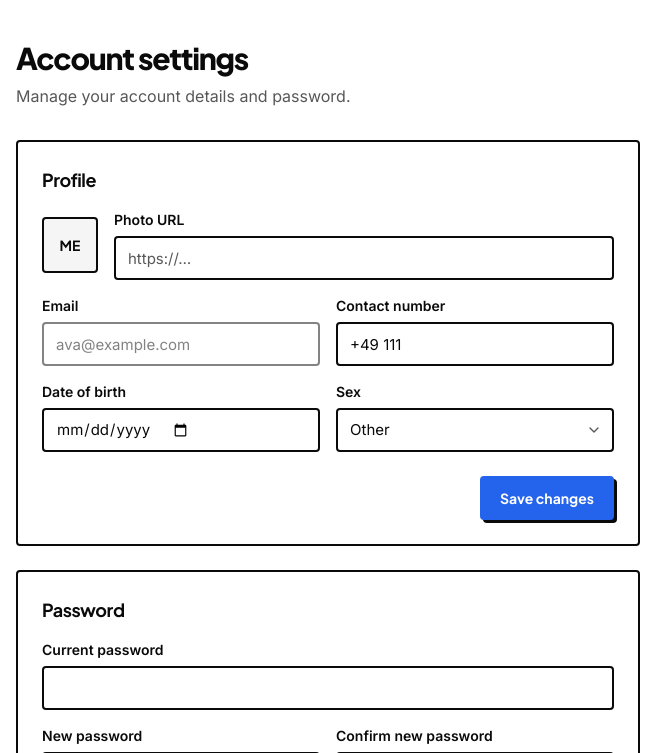
Test case: Settings › shows a local error and makes no request when the new passwords mismatch
Step 1. Type "oldpassword1" into the password field labelled "Current password" → x=328, y=688, box [42, 666, 614, 710]
(page scrolled)
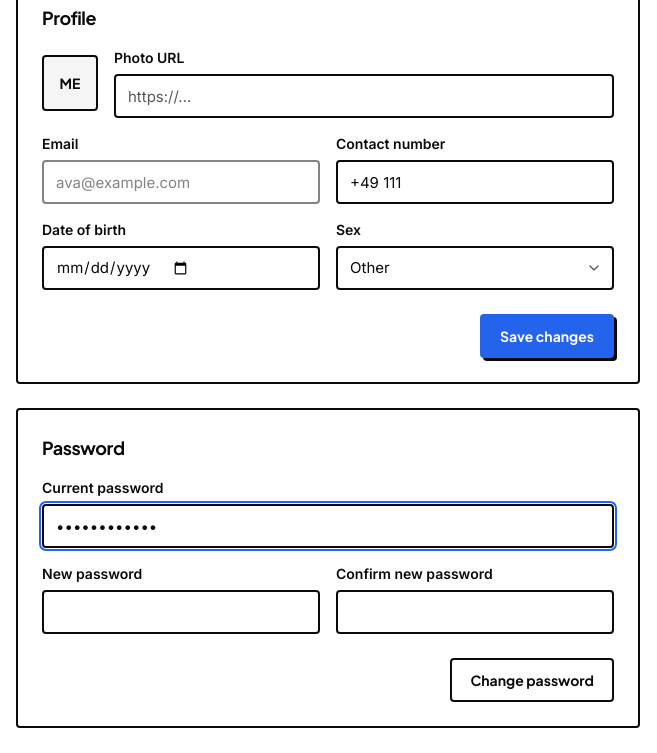
Step 2. Type "newpassword1" into the password field labelled "New password" → x=181, y=612, box [42, 590, 320, 634]
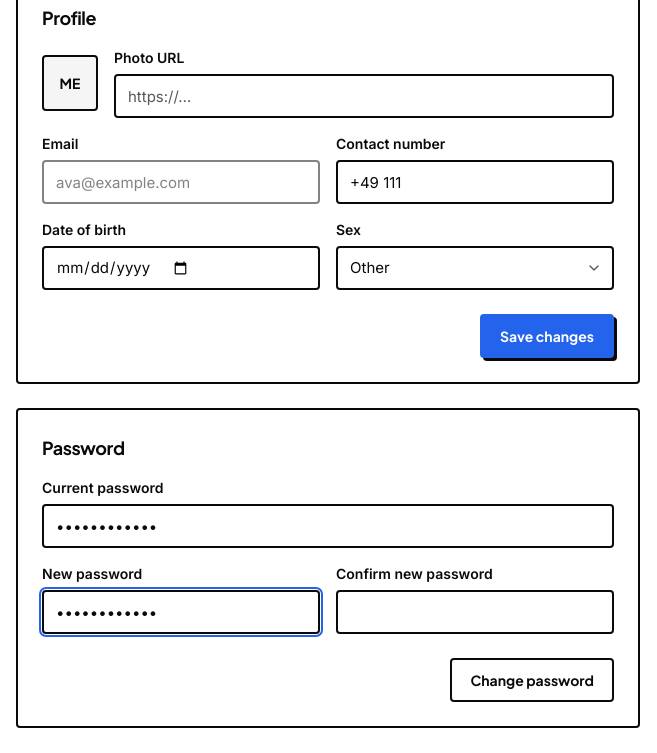
Step 3. Type "doesNotMatch" into the password field labelled "Confirm new password" → x=475, y=612, box [336, 590, 614, 634]
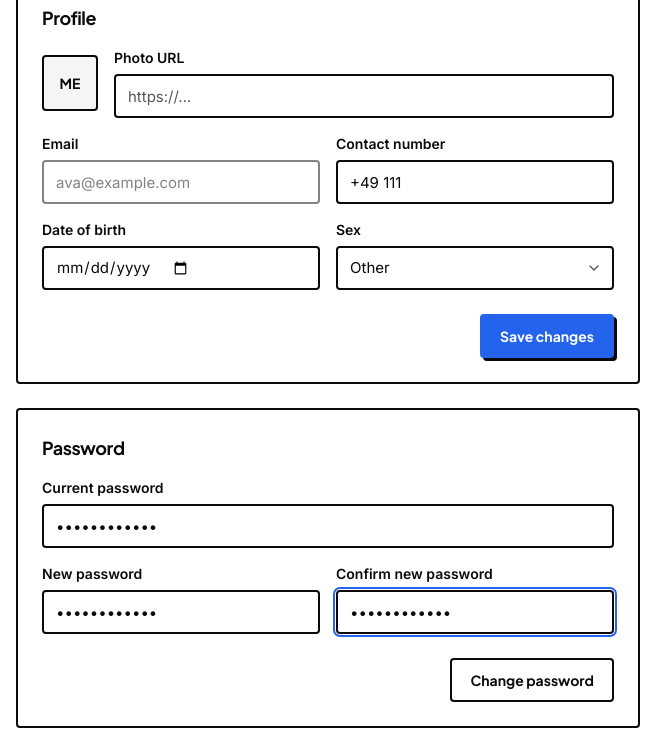
Step 4. Click the button "Change password" → x=532, y=680, box [450, 658, 614, 702]
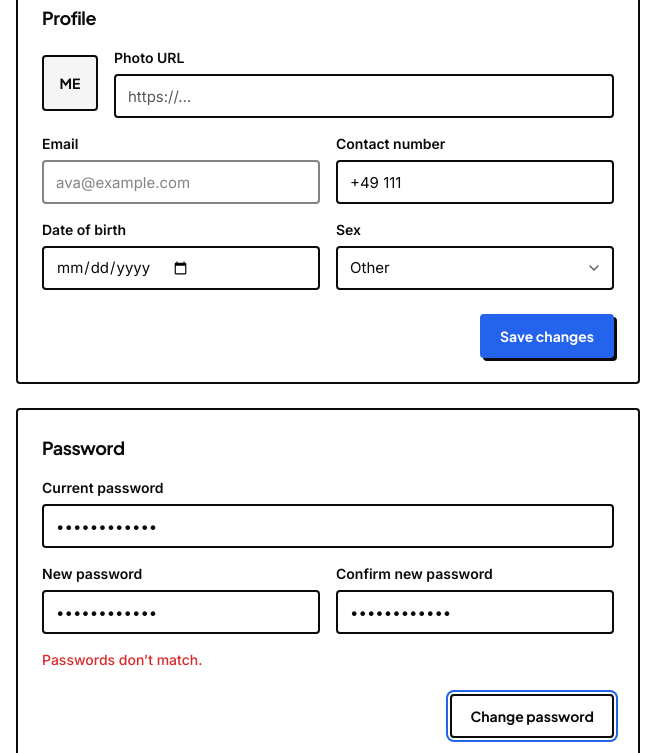
Expected: the text "Passwords don’t match." is shown, [42, 651, 202, 668]
